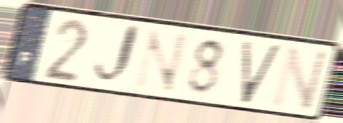2: (43, 15, 92, 86)
8: (184, 36, 227, 97)
J: (90, 20, 143, 89)
N: (268, 43, 331, 113), (131, 27, 191, 95)
V: (239, 39, 284, 106)
